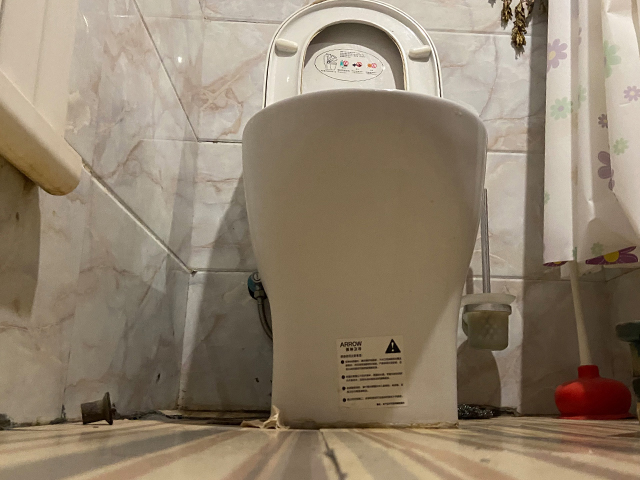closestool: (239, 1, 491, 430)
curtain: (546, 2, 640, 270)
